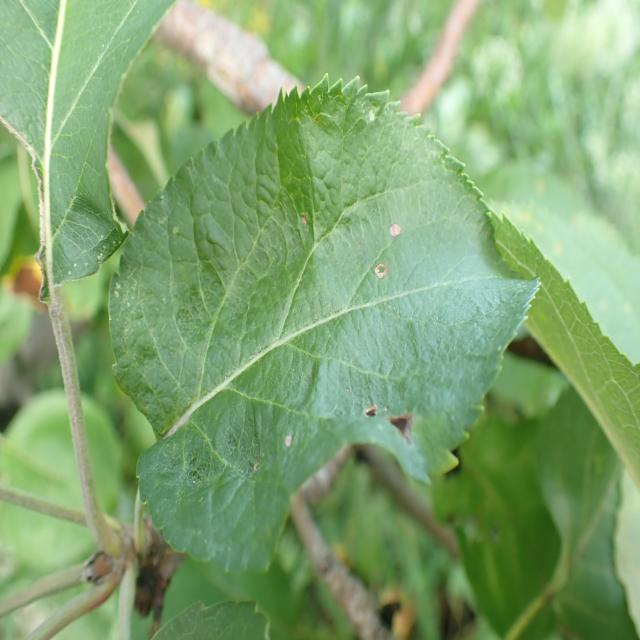Black Rot: (347, 376, 428, 472), (379, 203, 416, 250), (362, 248, 392, 300), (277, 422, 304, 471)
